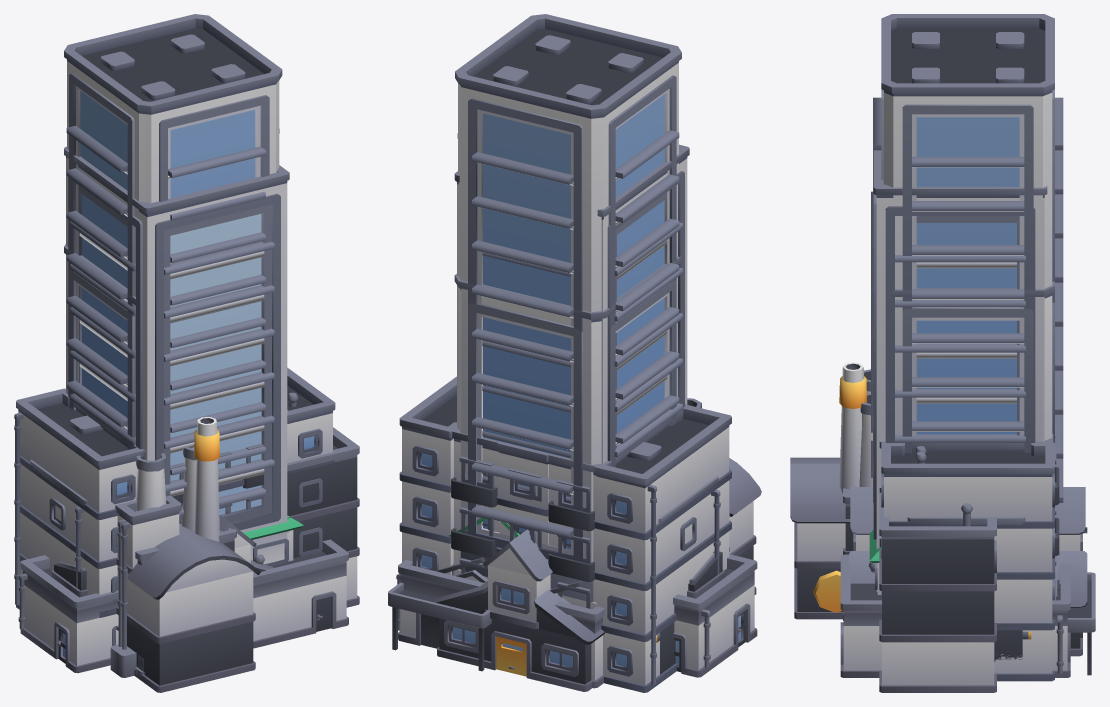
Rendered from city.glb.
3 renders of one model, left to right at view 1: azimuth 30°, elevation 25°; view 2: azimuth 150°, elevation 25°; view 3: azimuth 270°, elevation 25°, orthographic. The views are drawn at different scales.
Parts seen in each view (by area): view 1: tall-skyscraper-b, tall-skyscraper-c, mid-industrial-d, mid-commercial-e, low-industrial-b, mid-industrial-a, tall-skyscraper-a, mid-industrial-b, mid-commercial-f, suburban-f, mid-commercial-d, mid-industrial-c; view 2: tall-skyscraper-b, mid-commercial-e, tall-skyscraper-a, mid-industrial-c, tall-skyscraper-c, low-industrial-b, mid-industrial-a, mid-commercial-d, mid-commercial-f, mid-industrial-d; view 3: tall-skyscraper-b, low-industrial-b, tall-skyscraper-c, mid-commercial-e, mid-industrial-d, tall-skyscraper-a, mid-industrial-a, mid-industrial-c, mid-commercial-f, mid-industrial-b, mid-commercial-d.
Part boxes in pixels (x1,y1,x2,y2): tall-skyscraper-b: (64, 14, 282, 516); tall-skyscraper-c: (64, 146, 289, 563); mid-industrial-d: (110, 417, 260, 692); mid-commercial-e: (14, 367, 335, 645); low-industrial-b: (18, 427, 359, 673); mid-industrial-a: (135, 539, 348, 677); tall-skyscraper-a: (64, 244, 265, 510); mid-industrial-b: (135, 446, 236, 565); mid-commercial-f: (30, 459, 87, 588); suburban-f: (243, 515, 303, 566); mid-commercial-d: (61, 389, 263, 524); mid-industrial-c: (219, 515, 273, 571); tall-skyscraper-b: (453, 14, 681, 609); mid-commercial-e: (399, 376, 731, 692); tall-skyscraper-a: (454, 256, 681, 602); mid-industrial-c: (433, 529, 604, 691); tall-skyscraper-c: (454, 144, 689, 500); low-industrial-b: (454, 550, 757, 677); mid-industrial-a: (388, 560, 605, 688); mid-commercial-d: (452, 404, 686, 608); mid-commercial-f: (656, 476, 720, 674); mid-industrial-d: (729, 458, 761, 594); tall-skyscraper-b: (873, 14, 1063, 441); low-industrial-b: (879, 492, 1057, 692); tall-skyscraper-c: (871, 150, 1047, 591); mid-commercial-e: (879, 442, 1059, 681); mid-industrial-d: (790, 362, 867, 619); tall-skyscraper-a: (873, 281, 1063, 502); mid-industrial-a: (813, 554, 1095, 677); mid-industrial-c: (849, 487, 1087, 656); mid-commercial-f: (907, 517, 1031, 661); mid-industrial-b: (843, 369, 872, 620); mid-commercial-d: (879, 421, 1056, 565).
Bounding box in the file's own units: 2.48 × 4.48 × 2.18.
1 material, 1 textured.
